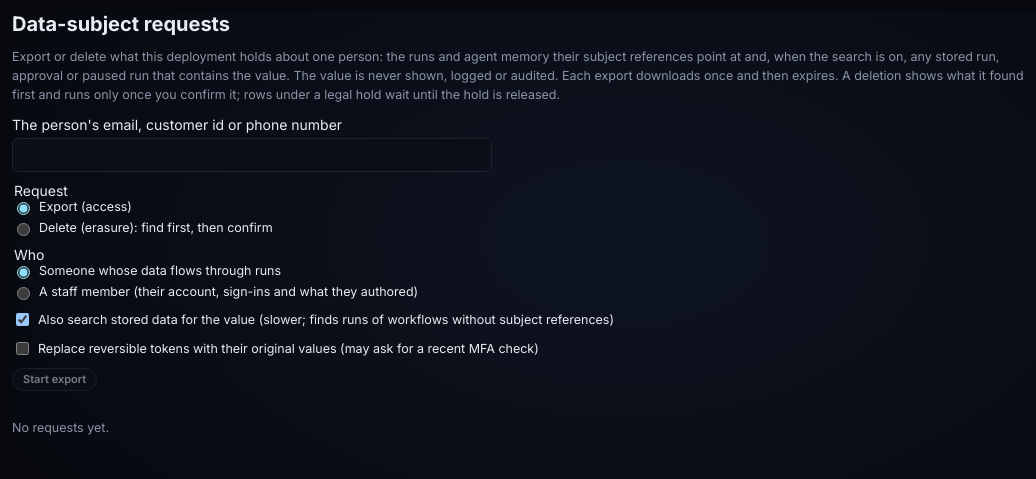
data-subject requests section › shows a refused request's message
This screenshot has width=1036, height=479.
Expected: the text "No requests yet." is shown, left=12, top=420, right=109, bottom=435
Type "ab" into the field labelled "The person's email, customer id or phone number" at (252, 155), box left=12, top=138, right=492, bottom=172
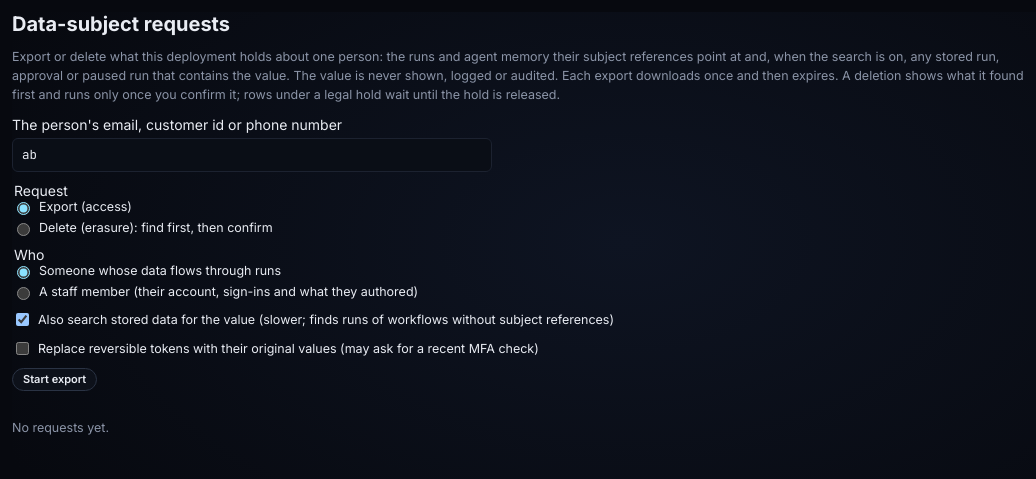
Click the button "Start export" at (55, 379), box left=12, top=368, right=97, bottom=391
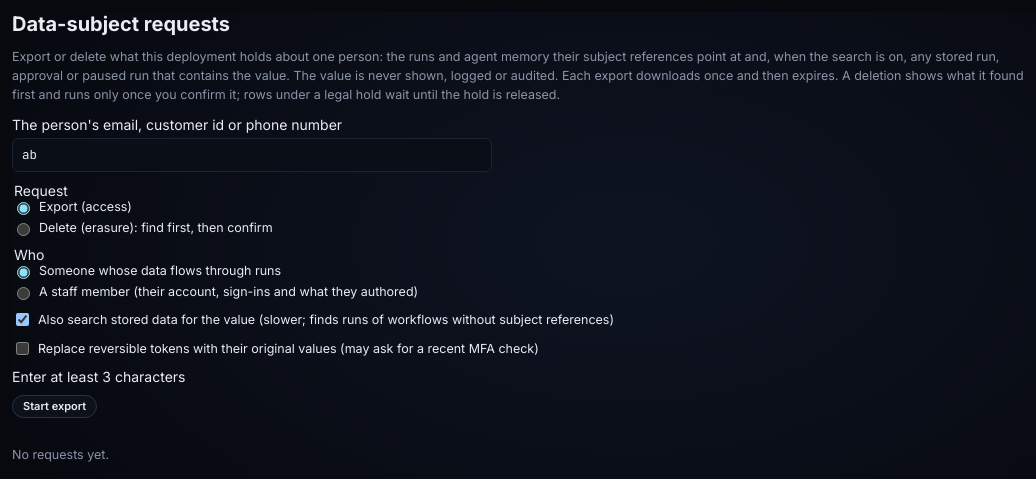
Result: the text "Enter at least 3 characters" is shown at left=12, top=368, right=186, bottom=385
